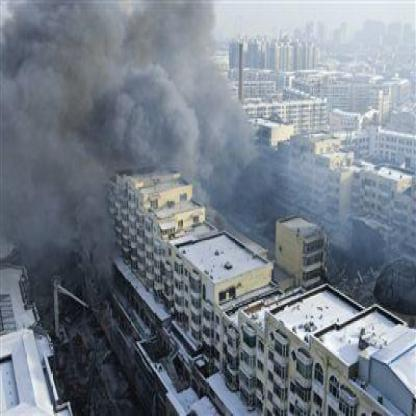smoke: (120, 1, 190, 164), (54, 11, 119, 165), (1, 22, 54, 201), (188, 3, 220, 178), (56, 161, 106, 232), (220, 87, 244, 176)
